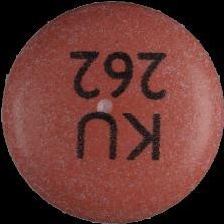33261-840: (0, 0, 224, 224)
